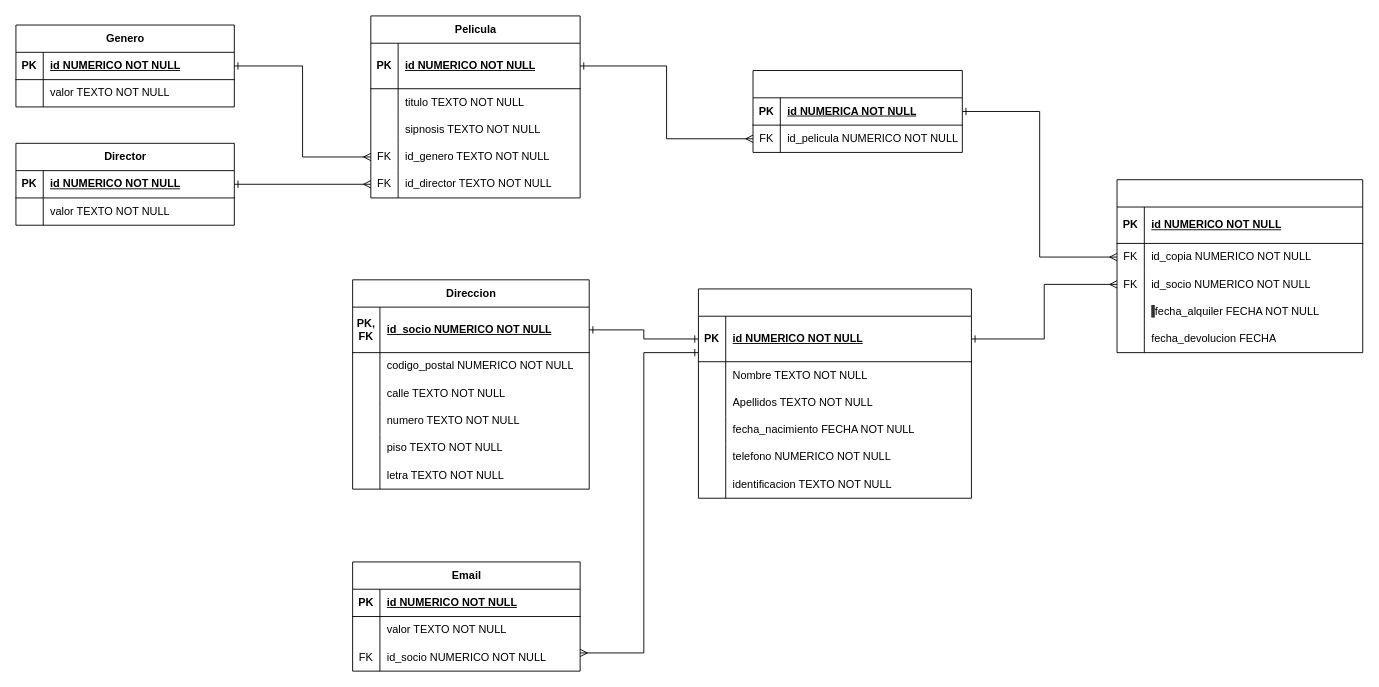
The diagram is 1379 pixels wide and 687 high, and some of its shapes have lost their labels. Here are the shapes that lost their labels. From the top down, the box of each, then its label:
(752, 70, 962, 152): Copia
(1116, 179, 1363, 353): Prestamo
(698, 288, 971, 498): Socio
